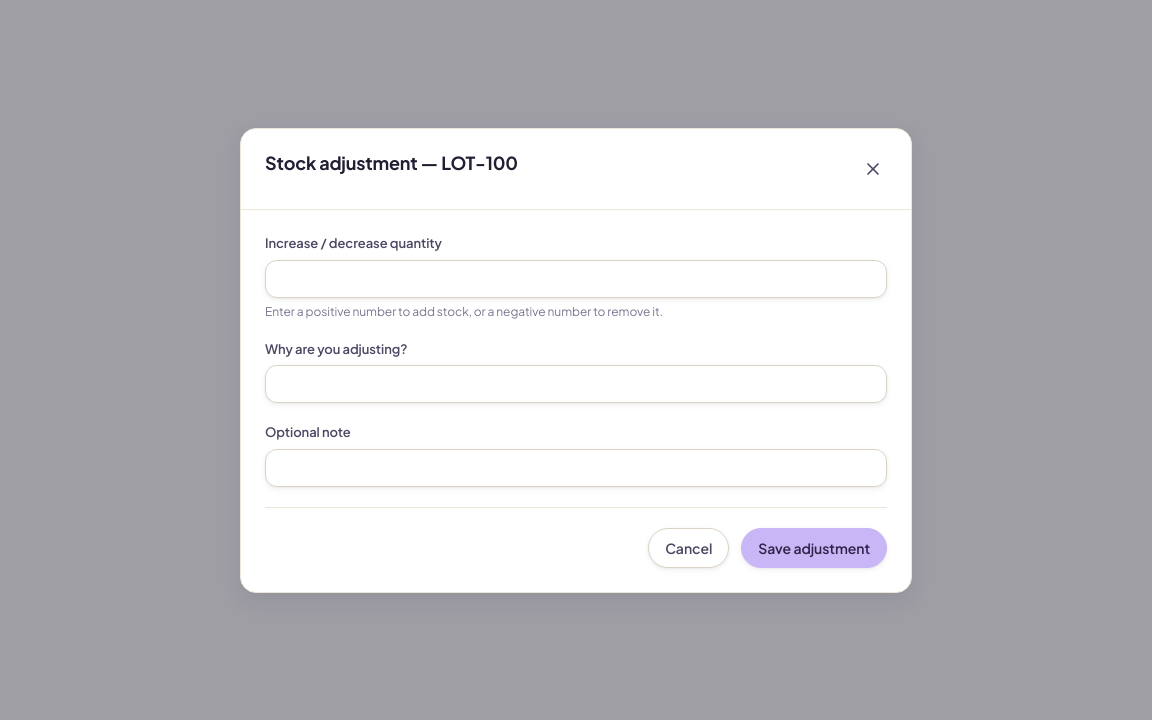
it: AdjustBatchModal › renders backend delta errors
In the number field labelled "Increase / decrease quantity": (576, 278) [265,259,887,297], type "-99"
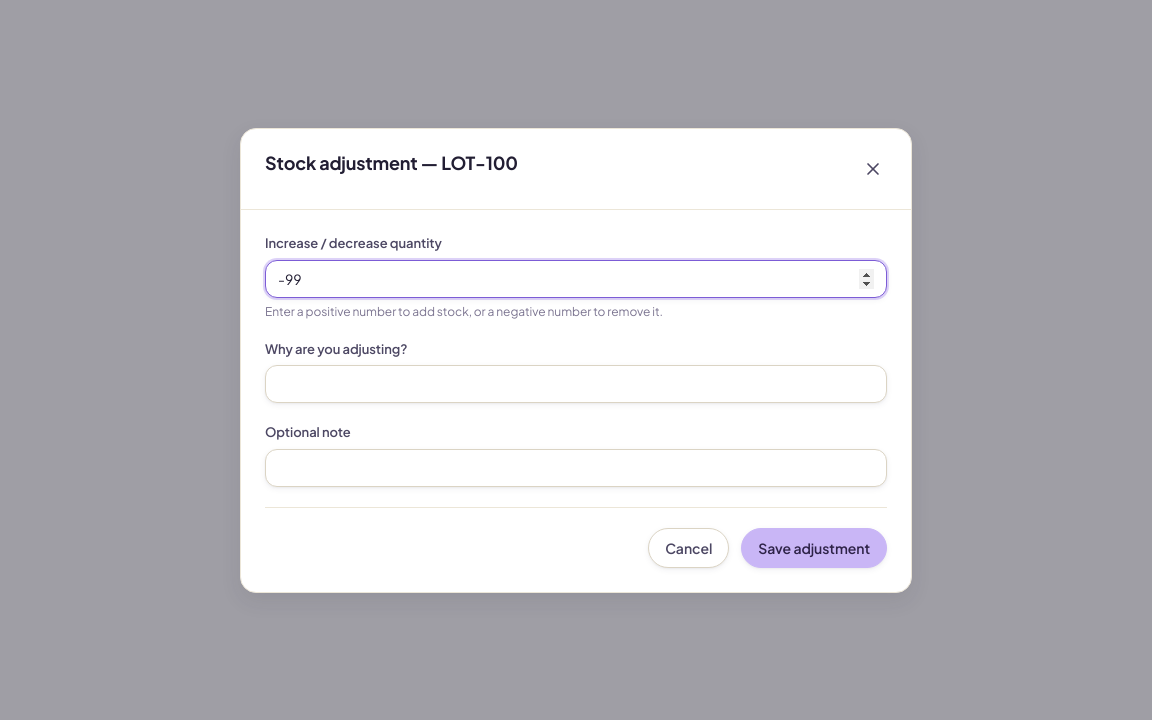
In the field labelled "Why are you adjusting?": (576, 384) [265,365,887,403], type "Damaged stock"
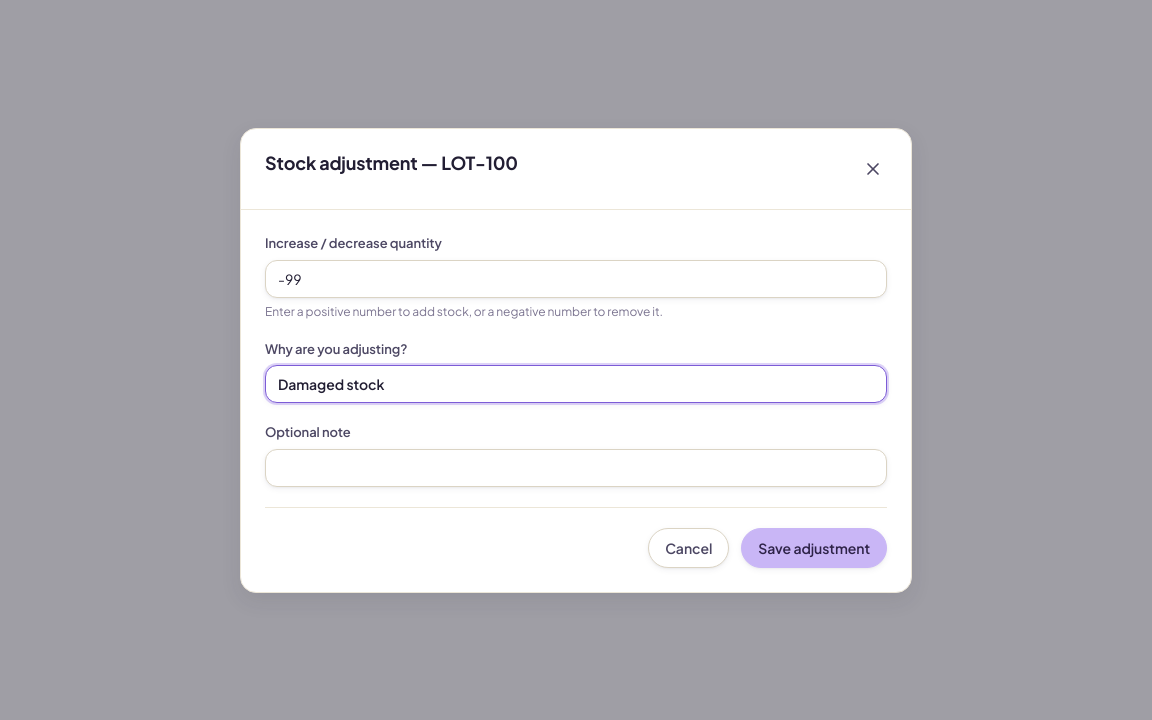
Click the button "Save adjustment": (814, 547) [741,527,887,567]
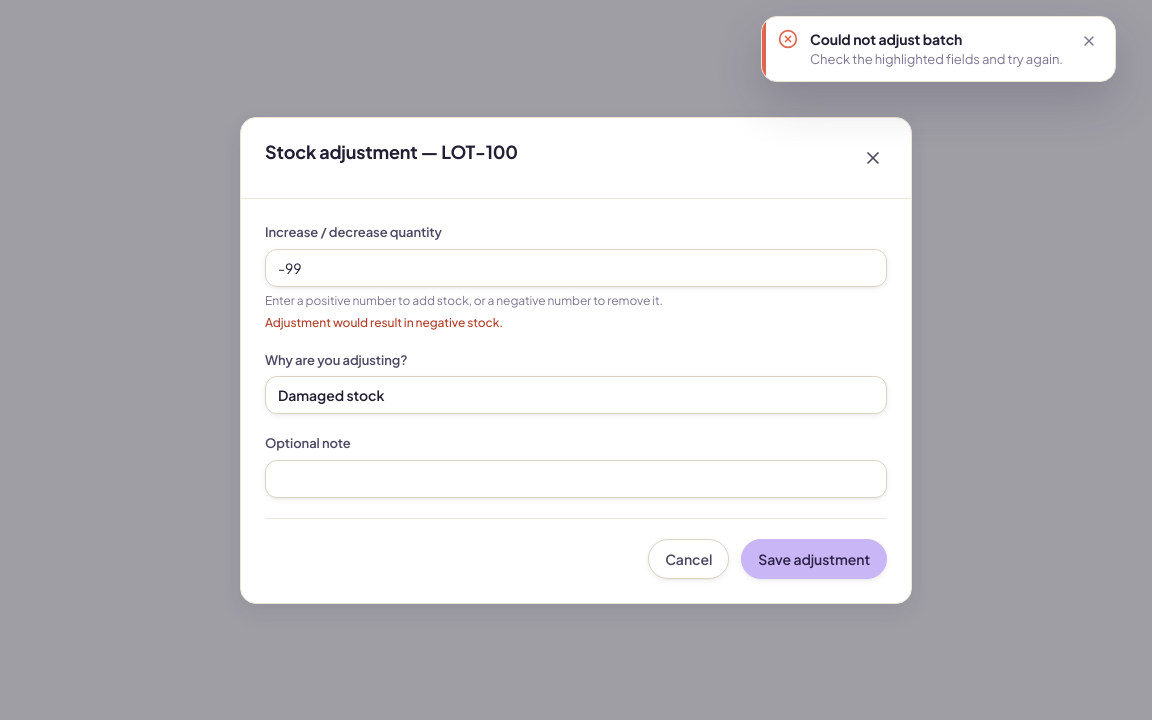
Expected: the list item "Adjustment would result in negative stock." is shown, [265,314,503,329]
